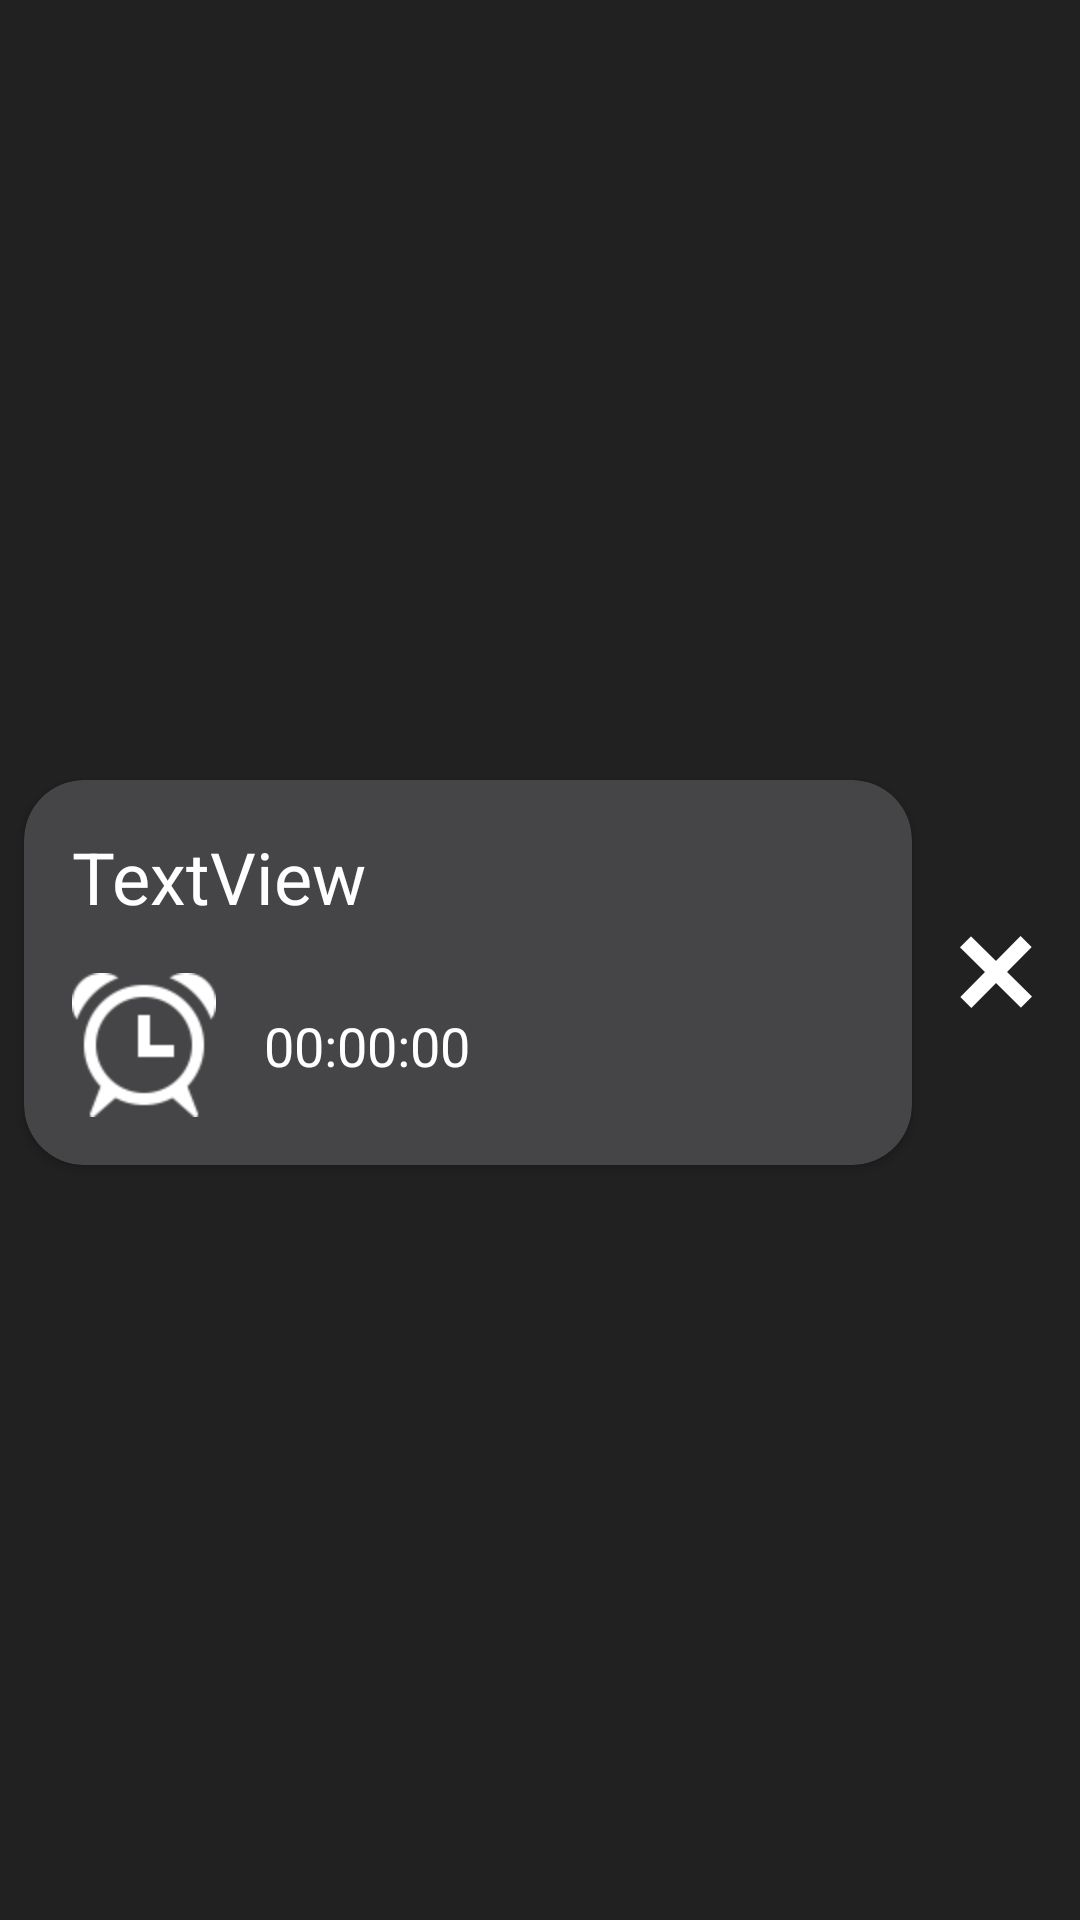

Screen size 1080*1920. Icon name, then its box in pixels as (x1, y1, x2, y2):
timer: (72, 973, 216, 1117)
